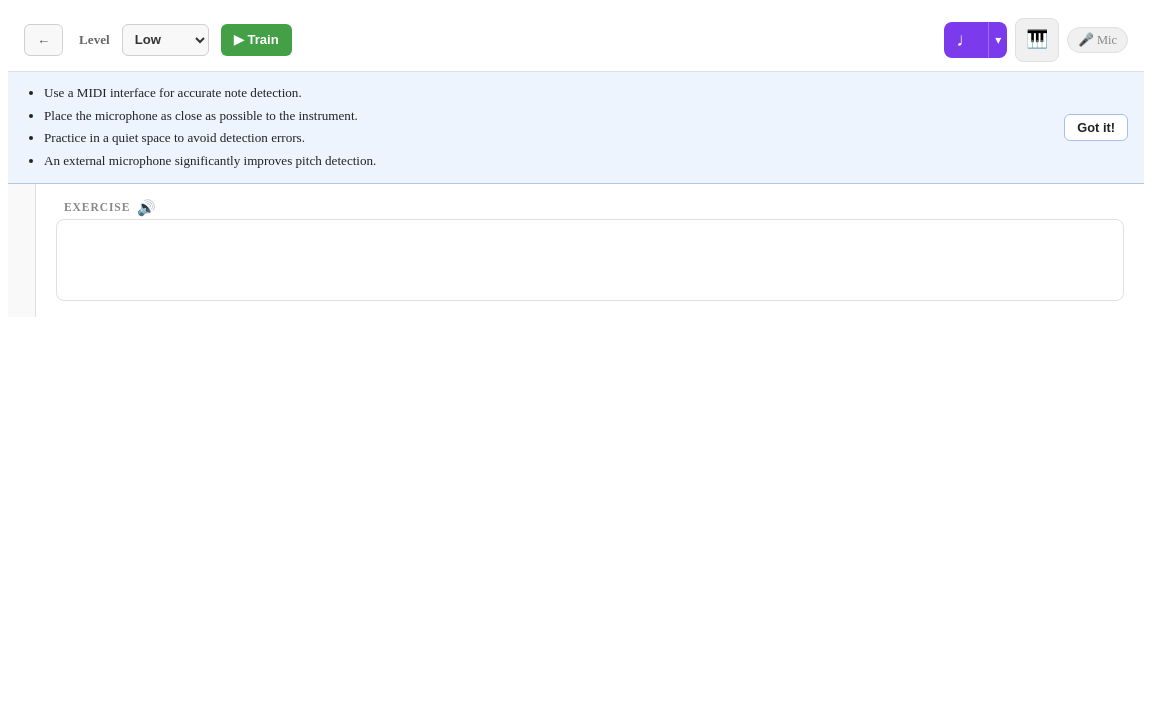
Scenario: TrainPlugin — step mode chord detection (Issue #3) › non-chord note arriving before the matching chord member is treated as wrong
// Low complexity: step mode, C-major scale, bpm: 40
Click the button with test id "train-play-btn".
click(256, 40)  # box top-left (221, 24), bottom-right (292, 56)
Wait 800 ms
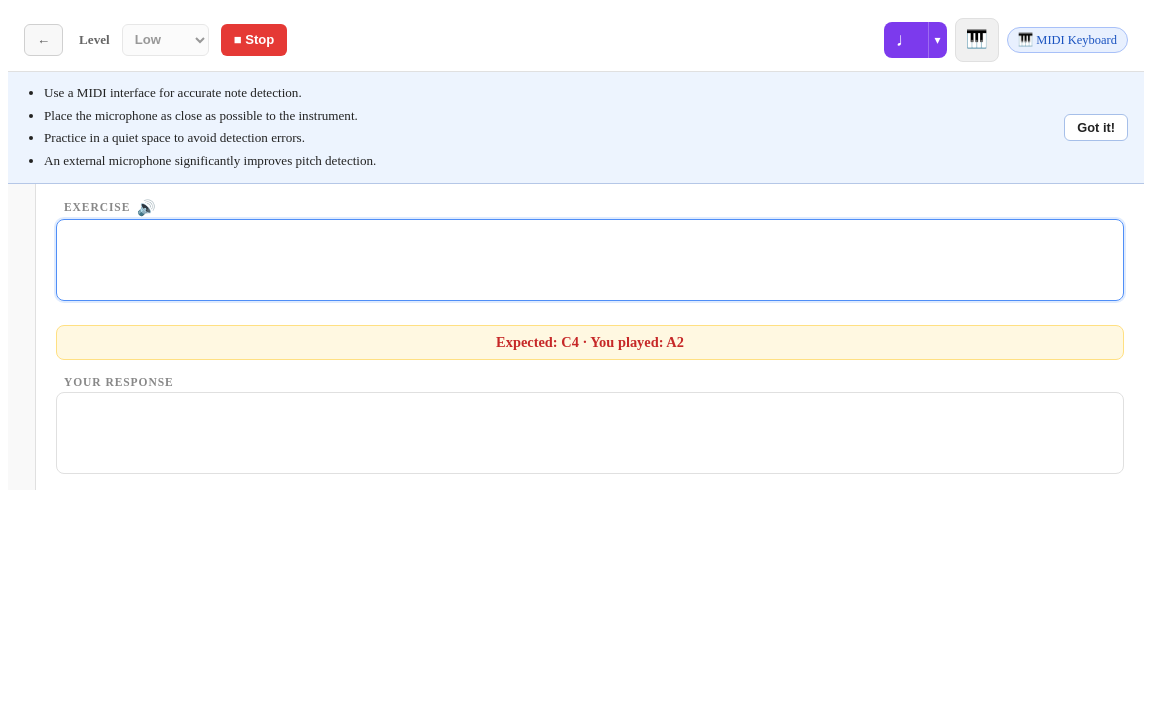
Expected: the message "Expected: C4 · You played: A2" is shown, top-left (56, 325), bottom-right (1124, 360)
Expected: the message shows "C4", top-left (496, 334), bottom-right (684, 350)
